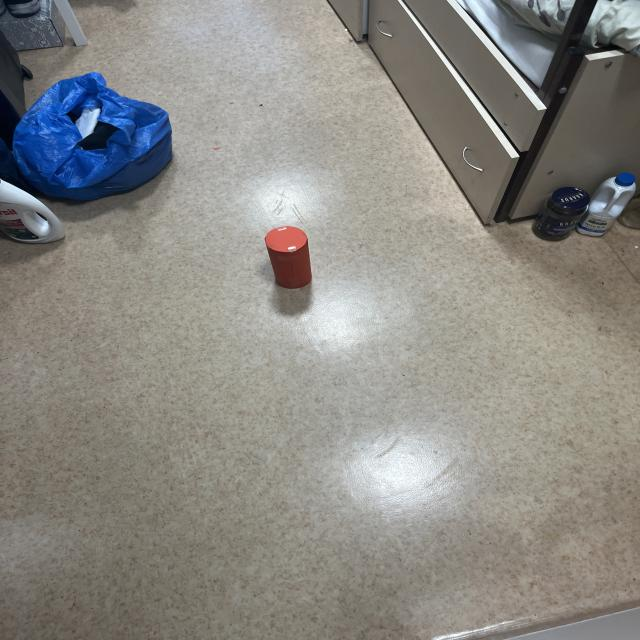przeszkoda: (265, 226, 312, 289)
